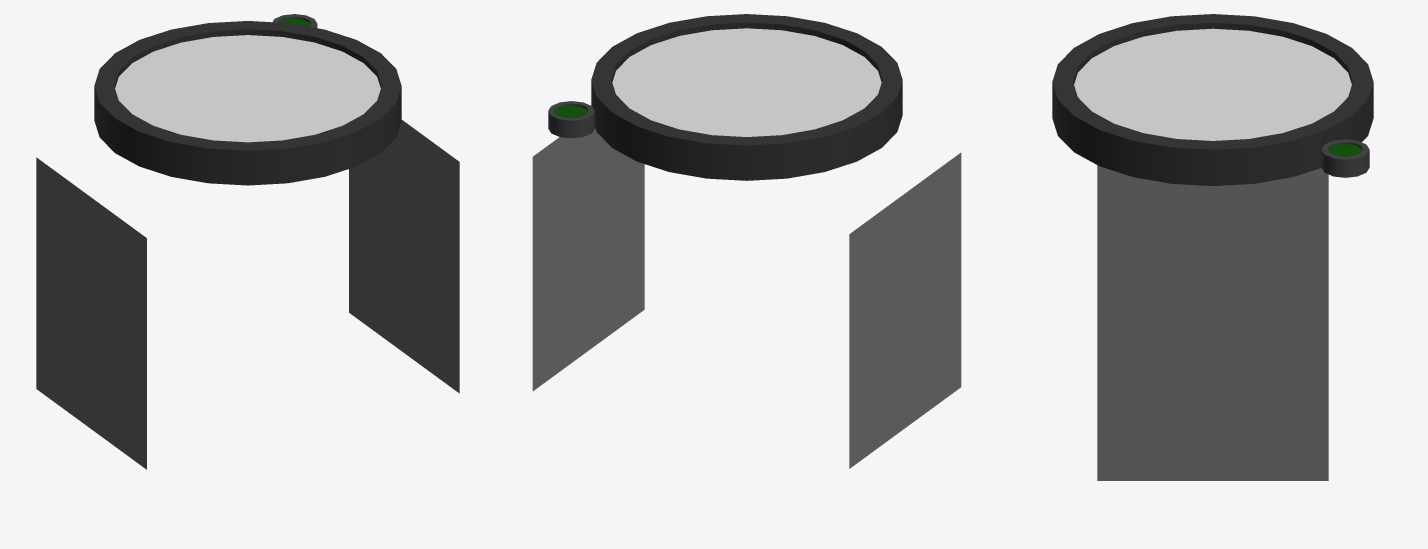
Rendered from Leg_SJCK_1X1_off.FBX.
3 renders of one model, left to right at view 1: azimuth 30°, elevation 25°; view 2: azimuth 150°, elevation 25°; view 3: azimuth 270°, elevation 25°, orthographic. The views are drawn at different scales.
Visible parts, largest first — view 1: 1; view 2: 1; view 3: 1.
Boxes of the visible parts, box(x1,y1,x2,y2) form: 1: box(36, 14, 459, 469); 1: box(532, 14, 961, 468); 1: box(1052, 14, 1373, 480).
Size of the model in its own units: 1 by 1.08 by 1.
